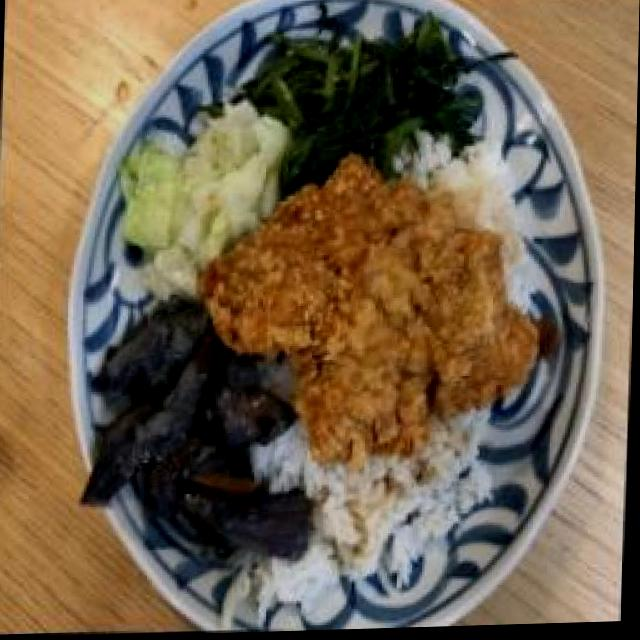chinese_cabbage: (141, 114, 268, 252)
fried_chicken: (205, 159, 535, 465)
rice: (310, 457, 477, 576)
water_spinach: (267, 24, 464, 174)
